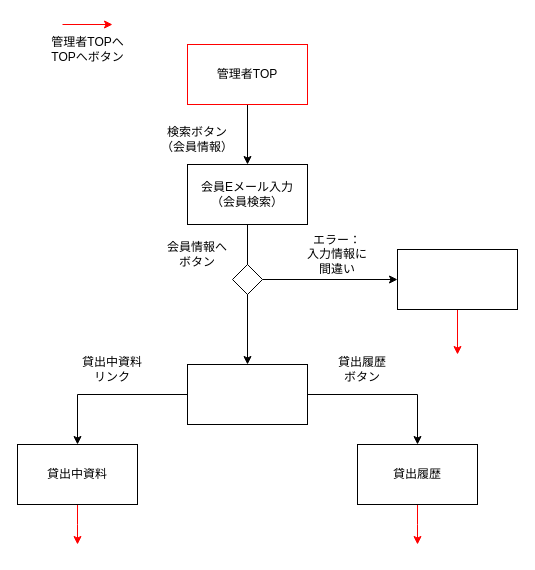
Image size: 535x570. Some labels were removed from this diagram. Here are the shapes that lost their labels. From the top down, the centre of each, then its label:
At [457,279]: "検索エラー".
At [247,394]: "会員情報".
